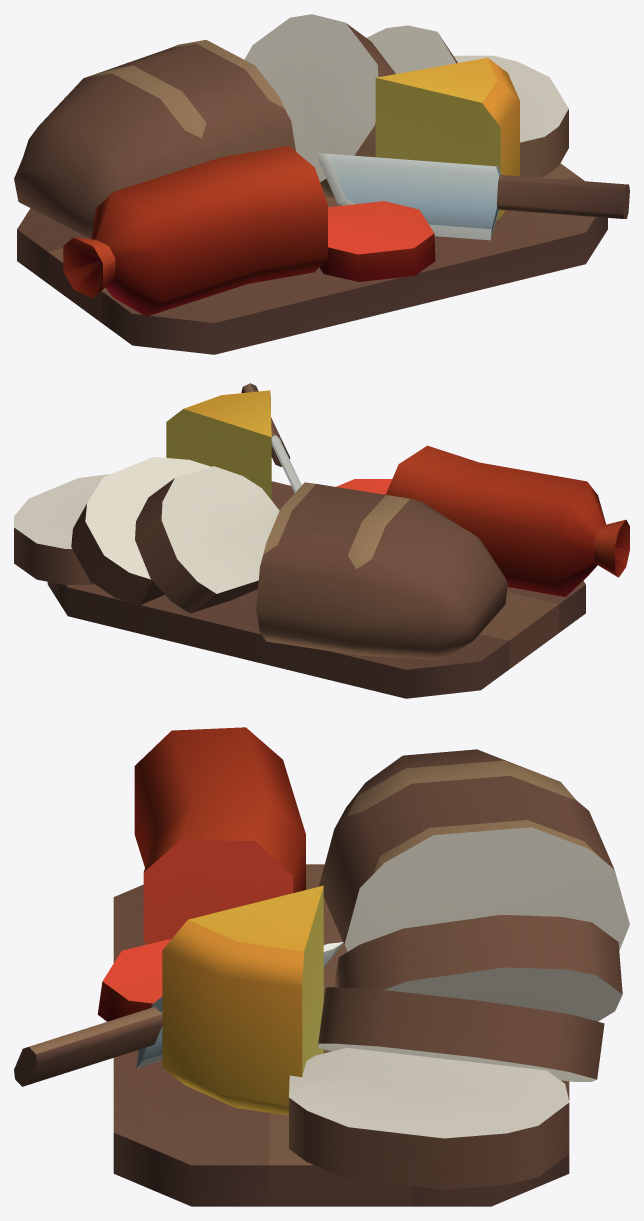
Rendered from cutting_board_bread_cheese.fbx.
3 views of the same model, one above another, from view 1: azimuth 30°, elevation 25°; view 2: azimuth 150°, elevation 25°; view 3: azimuth 270°, elevation 25° (orthographic). The views are drawn at different scales.
Parts seen in each view (by area): view 1: cutting_board_bread_cheese; view 2: cutting_board_bread_cheese; view 3: cutting_board_bread_cheese.
Boxes of the visible parts, left/top/right/bottom form: cutting_board_bread_cheese: left=14, top=14, right=629, bottom=354; cutting_board_bread_cheese: left=14, top=383, right=629, bottom=698; cutting_board_bread_cheese: left=14, top=727, right=629, bottom=1206.
Bounding box in the file's own units: 81.08 × 21.95 × 58.95.
